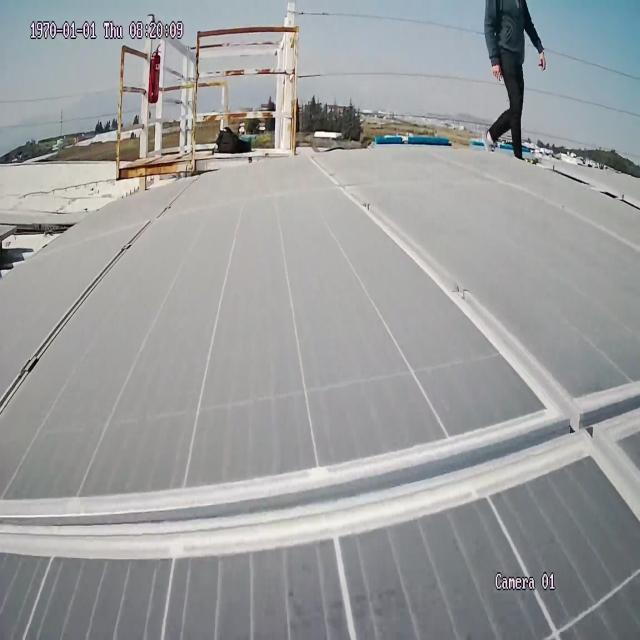interior panel: (0, 157, 640, 597)
